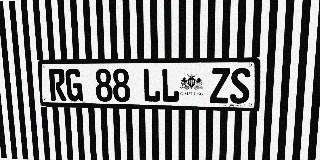8: (112, 68, 130, 102), (95, 69, 113, 102)
G: (65, 69, 83, 101)
L: (142, 68, 161, 102), (161, 68, 179, 103)
R: (49, 69, 66, 101)
S: (230, 68, 251, 104)
Z: (210, 68, 230, 103)
